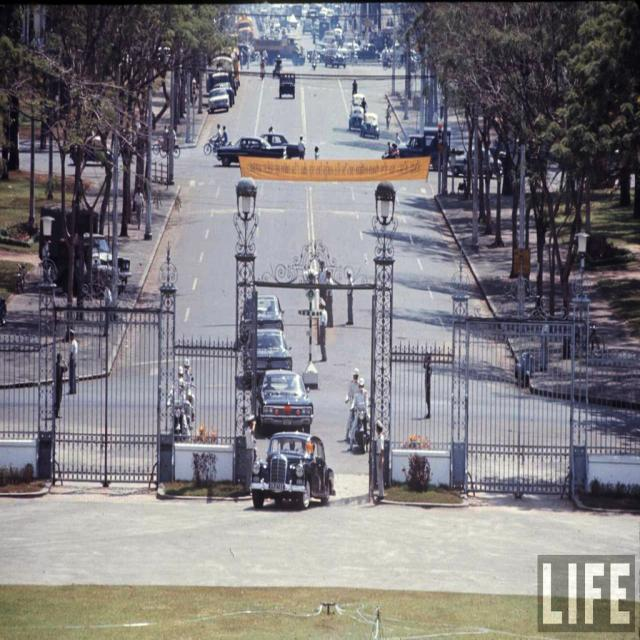car: (249, 428, 329, 510), (205, 88, 228, 111), (324, 46, 346, 69), (277, 70, 296, 96), (346, 104, 362, 134), (364, 115, 379, 136), (300, 16, 311, 34)
